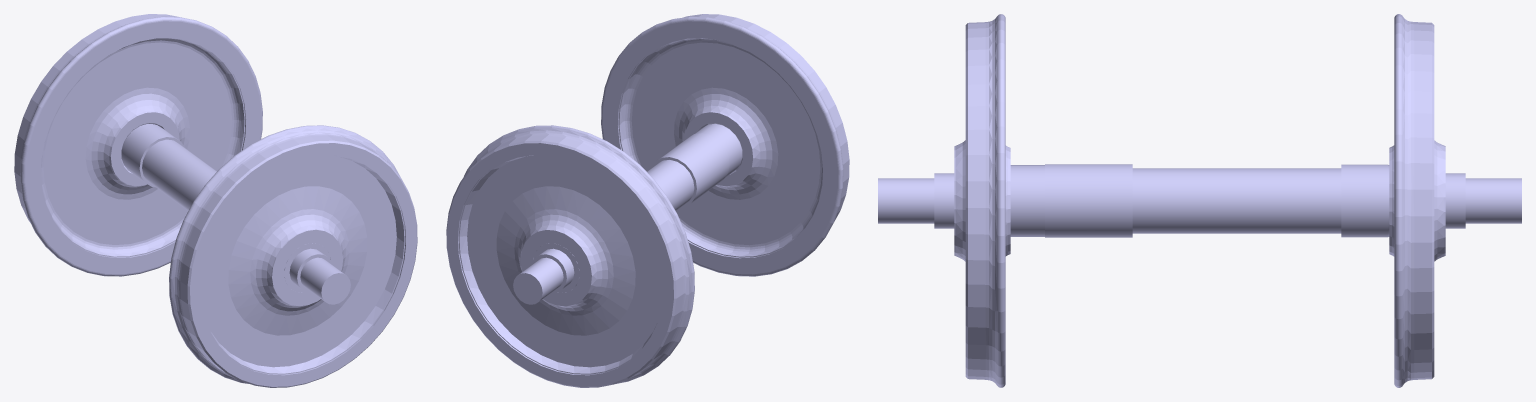
The model's file is 替换轮对合并.FBX.
3 views of the same model, side by side, from view 1: azimuth 30°, elevation 25°; view 2: azimuth 150°, elevation 25°; view 3: azimuth 270°, elevation 25° (orthographic). The views are drawn at different scales.
Visible parts, largest first — view 1: PartBody; view 2: PartBody; view 3: PartBody.
Boxes of the visible parts, left/top/right/bottom form: PartBody: left=14, top=14, right=417, bottom=387; PartBody: left=446, top=14, right=849, bottom=387; PartBody: left=878, top=14, right=1521, bottom=387.
Size of the model in its own units: 51.35 by 51.4 by 88.5.
